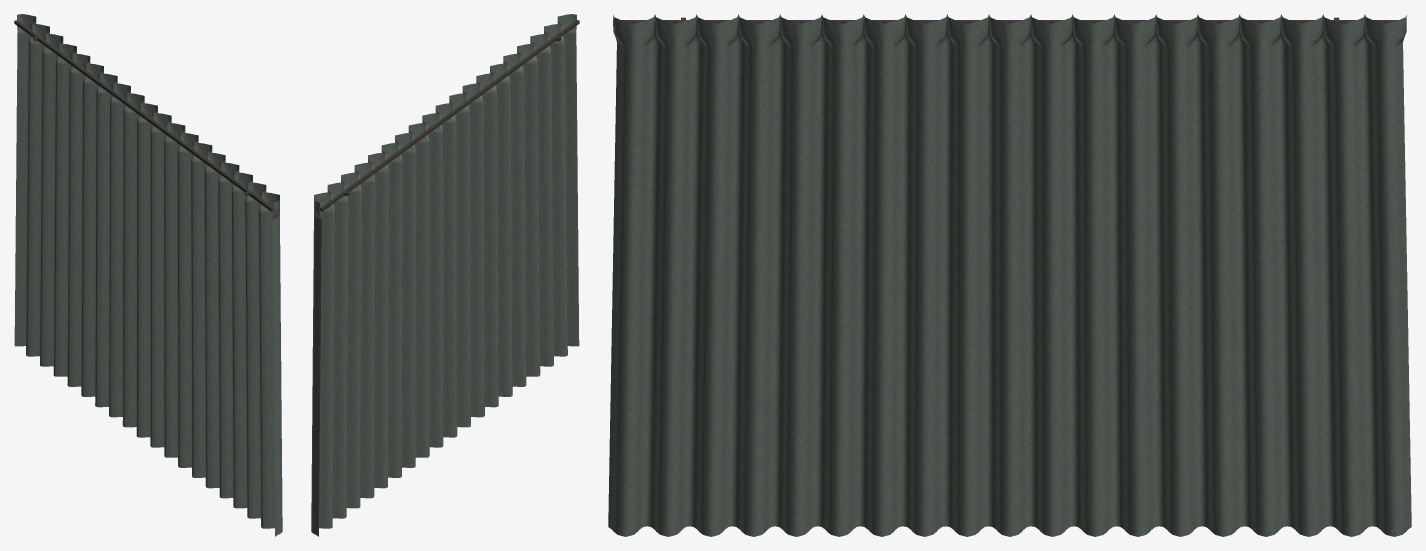
File: curtain.fbx
The picture shows the model from 3 angles, left to right: view 1: azimuth 30°, elevation 25°; view 2: azimuth 150°, elevation 25°; view 3: azimuth 270°, elevation 25°; orthographic projection. The views are drawn at different scales.
Visible parts, largest first — view 1: curtain; view 2: curtain; view 3: curtain.
Boxes of the visible parts, x1=… form: curtain: x1=14, y1=14, x2=282, y2=536; curtain: x1=311, y1=14, x2=579, y2=536; curtain: x1=608, y1=14, x2=1411, y2=536.
Bounding box in the file's own units: 6.68 × 114 × 162.
